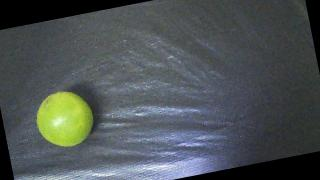LOCAL: (33, 86, 98, 151)
